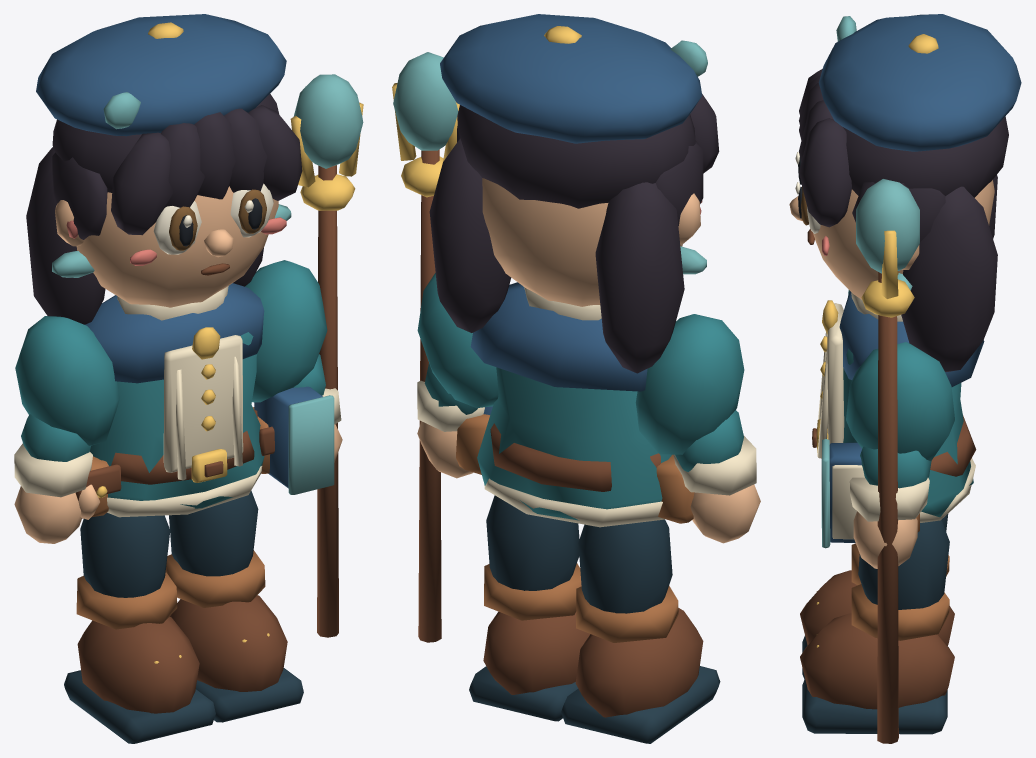
The model's file is lia.glb.
3 renders of one model, left to right at view 1: azimuth 30°, elevation 25°; view 2: azimuth 150°, elevation 25°; view 3: azimuth 270°, elevation 25°, orthographic. The views are drawn at different scales.
Visible parts, largest first — view 1: Head_mesh, Torso_mesh, LegLeft_mesh, ArmRight_mesh, LegRight_mesh, ArmLeft_mesh; view 2: Head_mesh, Torso_mesh, LegLeft_mesh, ArmRight_mesh, LegRight_mesh, ArmLeft_mesh; view 3: Head_mesh, ArmRight_mesh, LegRight_mesh, Torso_mesh, LegLeft_mesh.
Part boxes in pixels (x1=…): Head_mesh: x1=26, y1=14, x2=302, y2=324; Torso_mesh: x1=75, y1=283, x2=334, y2=518; LegLeft_mesh: x1=64, y1=512, x2=215, y2=743; ArmRight_mesh: x1=245, y1=74, x2=363, y2=637; LegRight_mesh: x1=165, y1=490, x2=303, y2=722; ArmLeft_mesh: x1=14, y1=316, x2=119, y2=543; Head_mesh: x1=429, y1=14, x2=719, y2=373; Torso_mesh: x1=456, y1=282, x2=694, y2=527; LegLeft_mesh: x1=561, y1=519, x2=720, y2=743; ArmRight_mesh: x1=392, y1=52, x2=498, y2=642; LegRight_mesh: x1=469, y1=495, x2=590, y2=721; ArmLeft_mesh: x1=635, y1=314, x2=760, y2=543; Head_mesh: x1=789, y1=14, x2=1021, y2=371; ArmRight_mesh: x1=846, y1=179, x2=954, y2=743; LegRight_mesh: x1=800, y1=520, x2=954, y2=734; Torso_mesh: x1=812, y1=291, x2=984, y2=548; LegLeft_mesh: x1=800, y1=514, x2=954, y2=679.
Size of the model in its own units: 1.12 by 2.06 by 0.6522.
